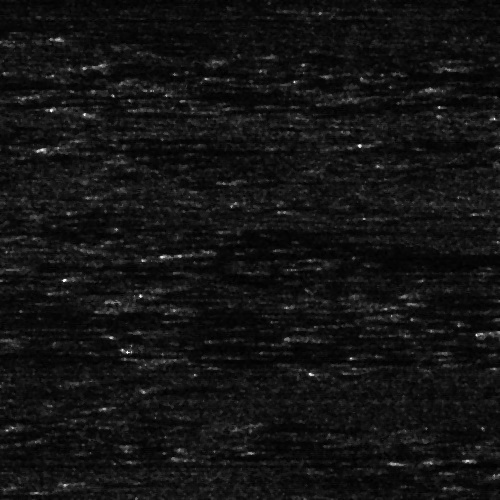object: (95, 352, 188, 363), (148, 249, 221, 262), (35, 141, 128, 150), (229, 176, 302, 181), (256, 332, 319, 337)
shadow: (0, 315, 314, 326), (184, 249, 442, 262), (142, 352, 383, 363), (82, 141, 337, 150), (265, 176, 439, 181), (0, 486, 36, 500), (288, 332, 371, 337)
